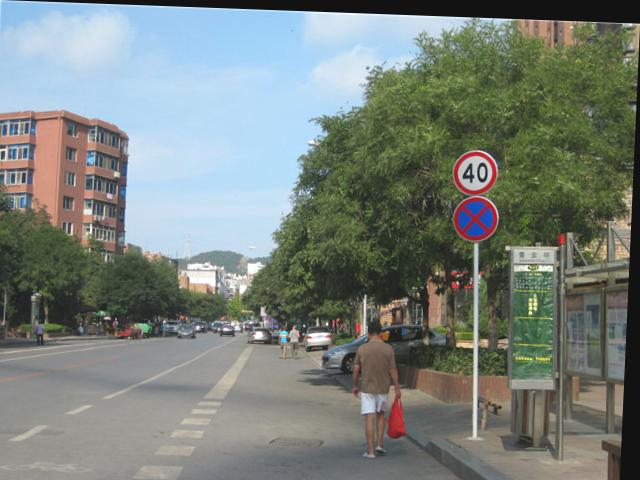limit40: (455, 146, 500, 192)
